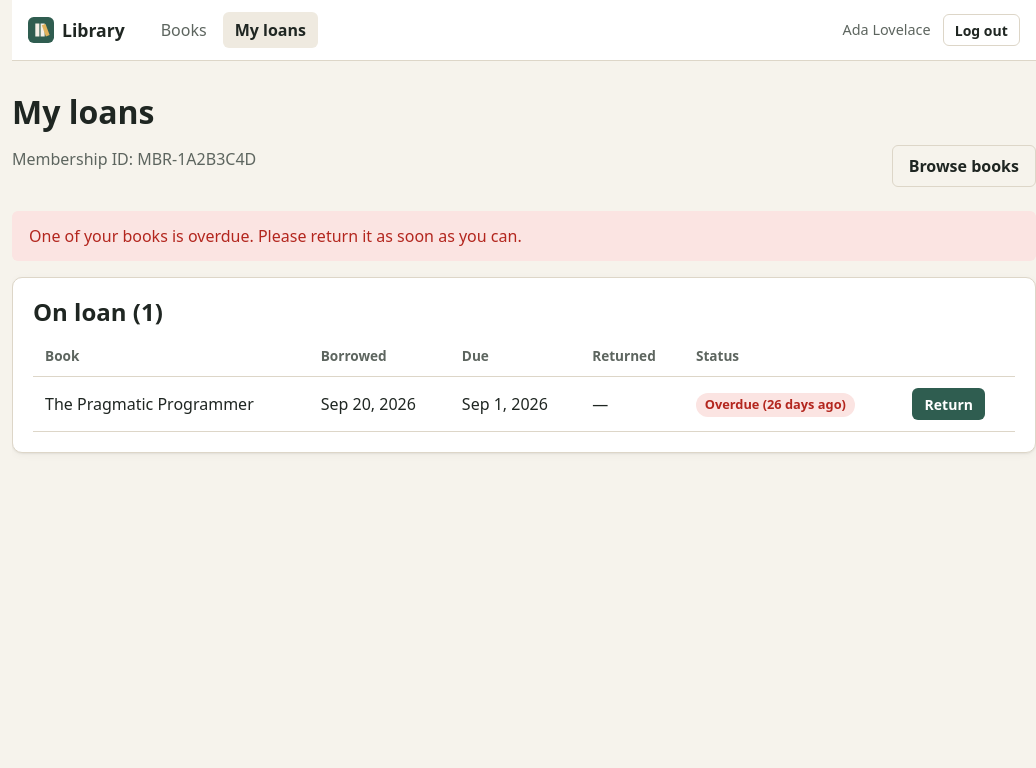
Test: my loans › lists current loans, warns about overdue ones, and returns a book
The width and height of the screenshot is (1036, 768).
Expected: the text "One of your books is overdue. Please return it as soon as you can." is shown, [12,211,1035,261]
Click the button with aria-label "Return The Pragmatic Programmer": click(949, 404) [912,388,985,420]
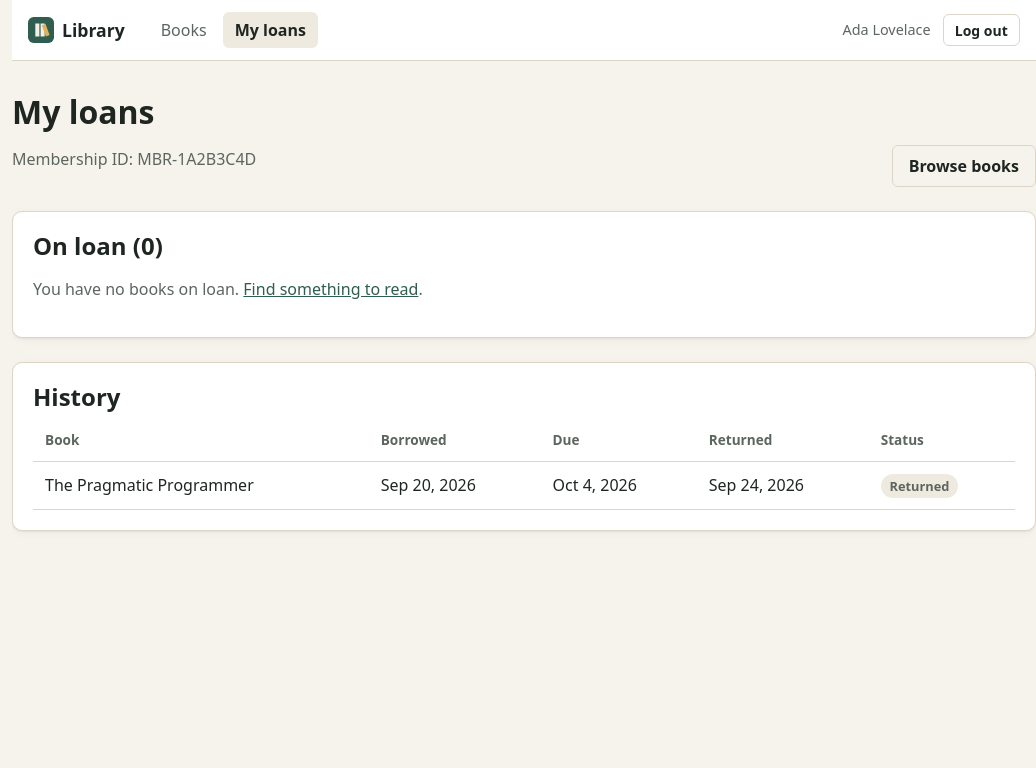
Expected: the heading "History" is shown, [33,380,120,413]
Expected: the heading "On loan (0)" is shown, [33,229,163,262]
Expected: the text "overdue" is gone
